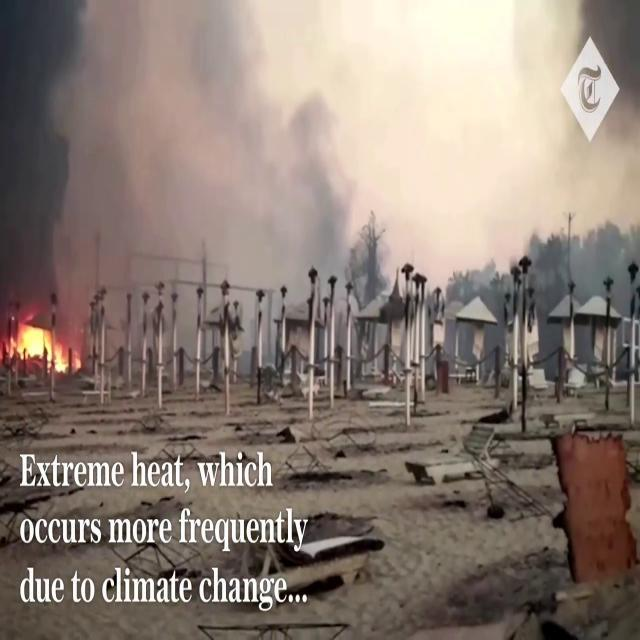Smoke: (0, 1, 380, 327)
